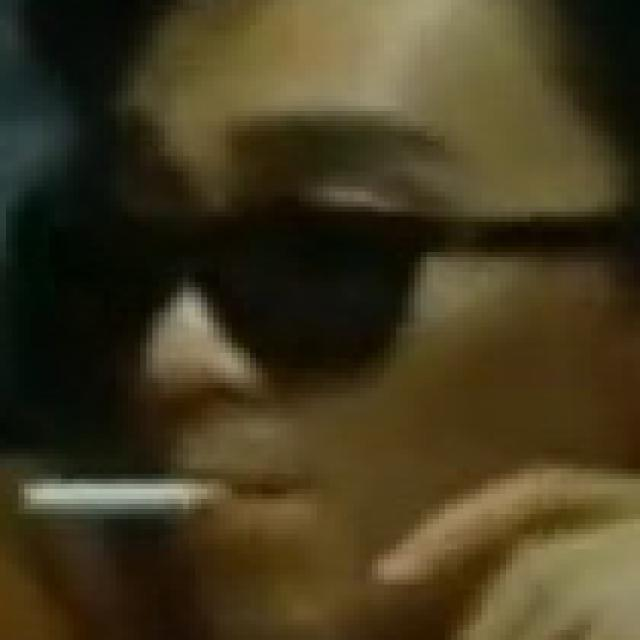smoking: (14, 476, 230, 520)
